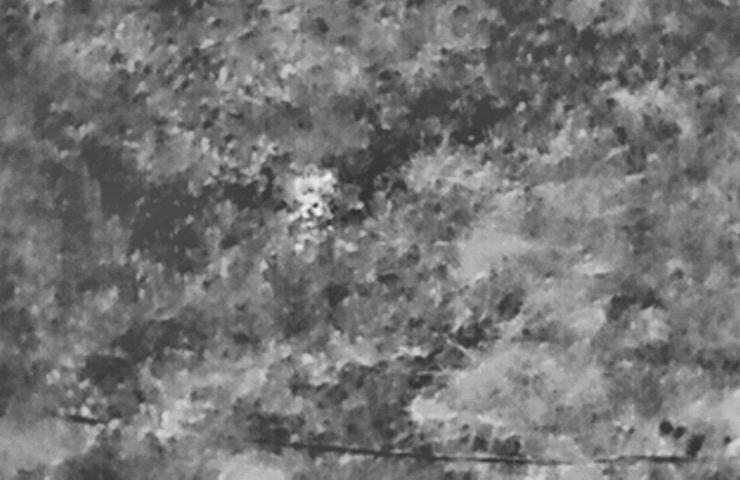landmines: (291, 167, 341, 218)
